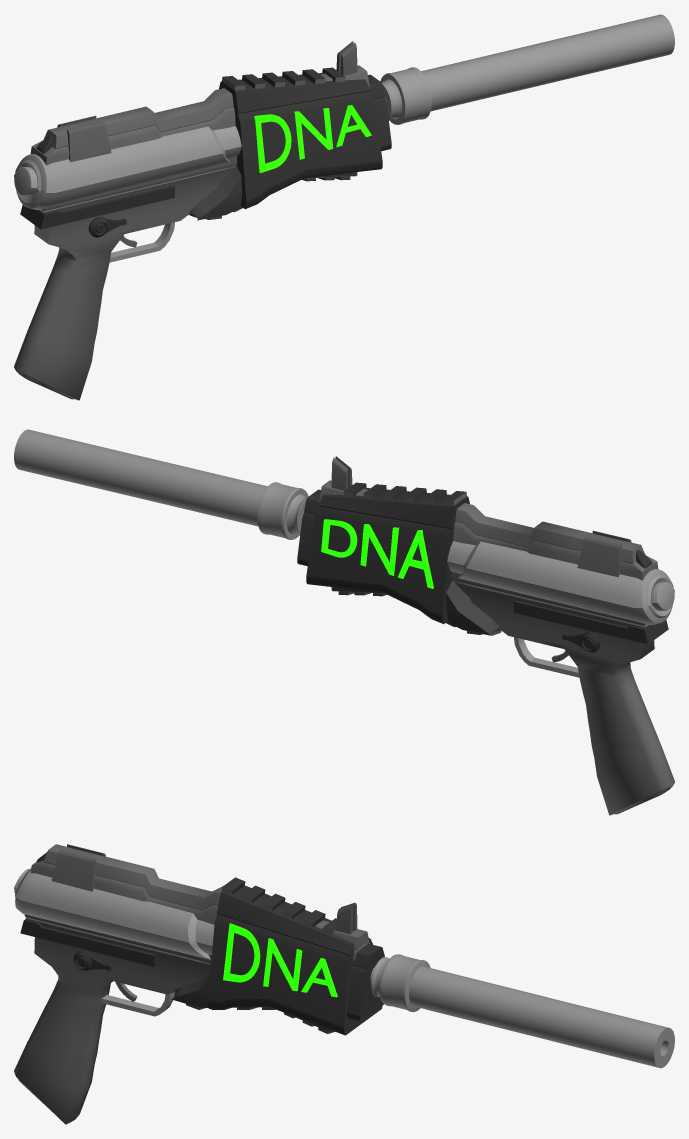
File: DNA_SCRAMBLER.glb
3 views of the same model, one above another, from view 1: azimuth 30°, elevation 25°; view 2: azimuth 150°, elevation 25°; view 3: azimuth 330°, elevation 25° (orthographic).
Visible parts, largest first — view 1: D2_DNA; view 2: D2_DNA; view 3: D2_DNA.
Part boxes in pixels (x1,y1,x2,y2): D2_DNA: (14, 14, 674, 400); D2_DNA: (14, 429, 674, 815); D2_DNA: (14, 844, 674, 1124).
Size of the model in its own units: 1.46 by 0.6115 by 0.1499.
